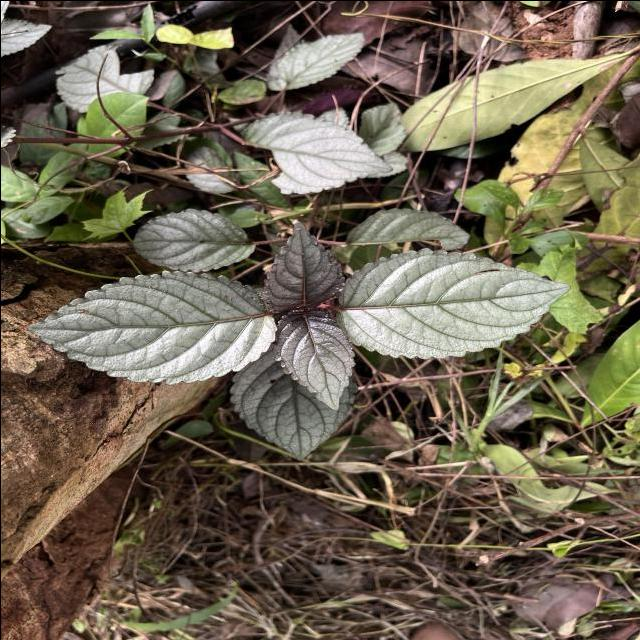Hemigraphis colorata: (19, 267, 281, 387), (331, 245, 574, 362), (126, 203, 262, 276), (268, 304, 356, 414), (258, 214, 346, 312)
